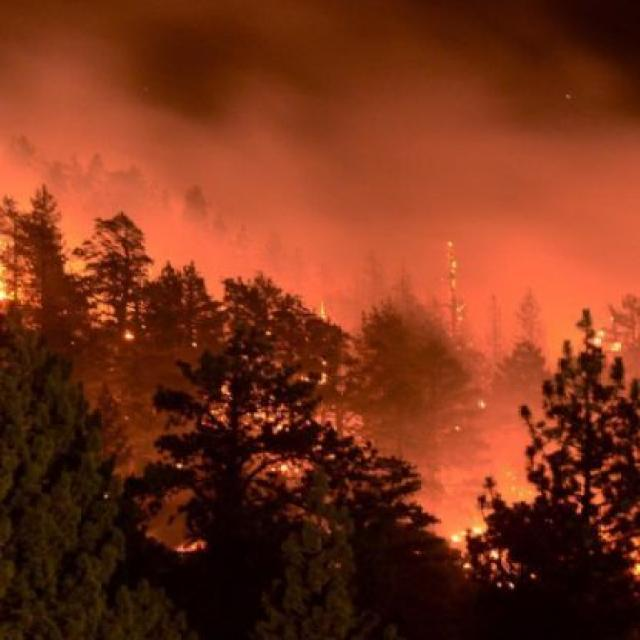Smoke: (0, 0, 624, 322)
